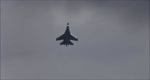maybay_muctieu: (55, 21, 78, 49)
